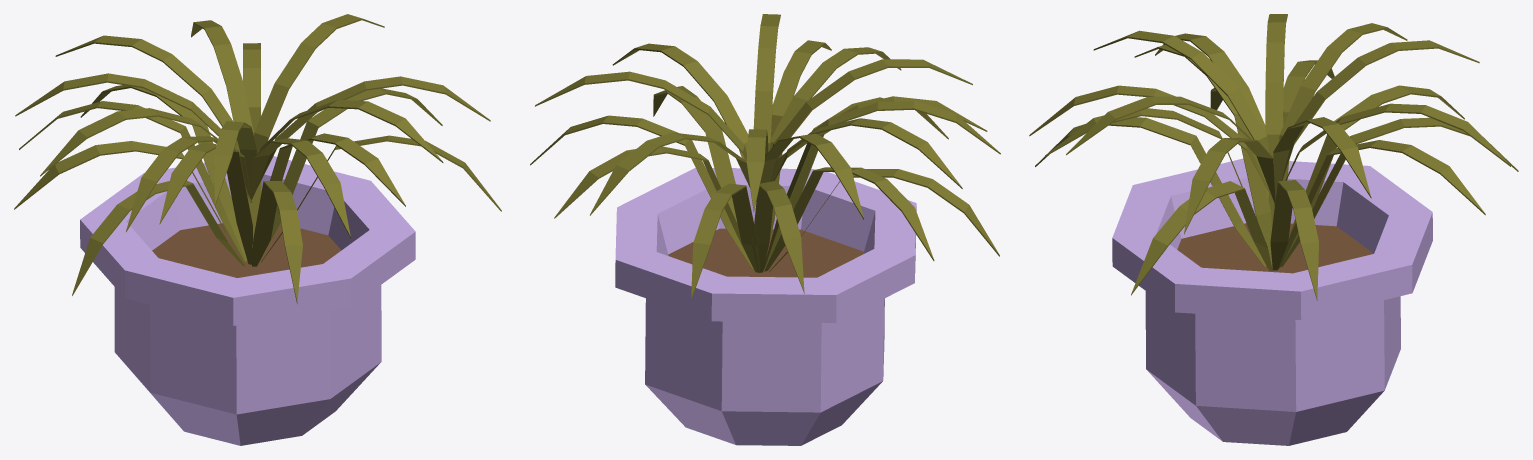
Rendered from Flower_22.fbx.
The picture shows the model from 3 angles, left to right: view 1: azimuth 30°, elevation 25°; view 2: azimuth 150°, elevation 25°; view 3: azimuth 270°, elevation 25°; orthographic projection. The views are drawn at different scales.
Parts seen in each view (by area): view 1: Flower_22; view 2: Flower_22; view 3: Flower_22.
Boxes of the visible parts, x1,y1,x2,y2 form: Flower_22: (14,14,501,445); Flower_22: (530,14,1000,445); Flower_22: (1029,14,1518,445).
Size of the model in its own units: 35.55 by 35.14 by 26.99.
